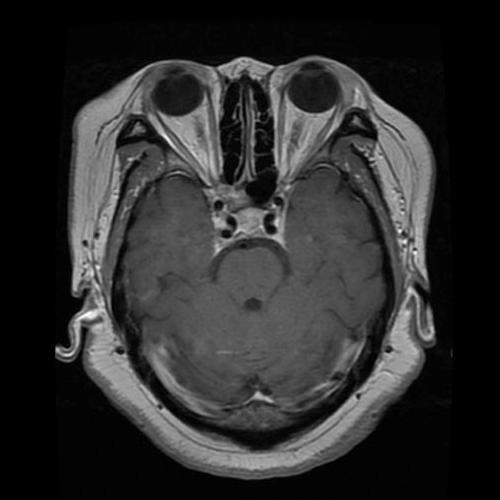Tumour-Pituitary: (209, 194, 296, 264)
